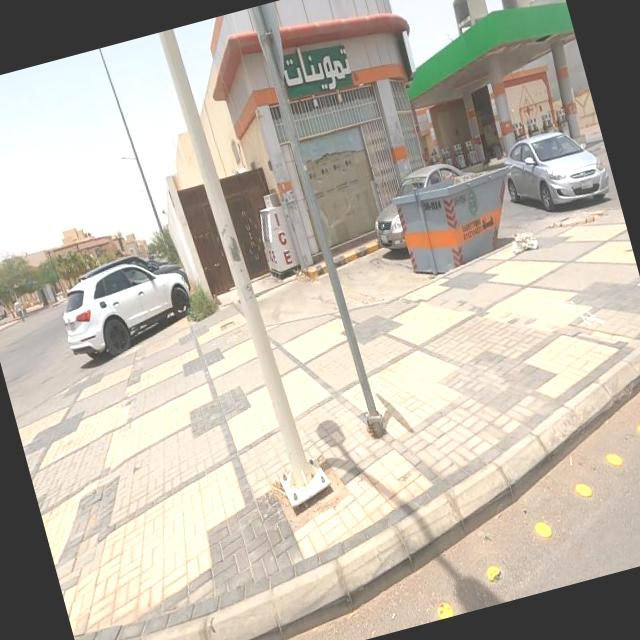debris: (461, 170, 590, 308)
